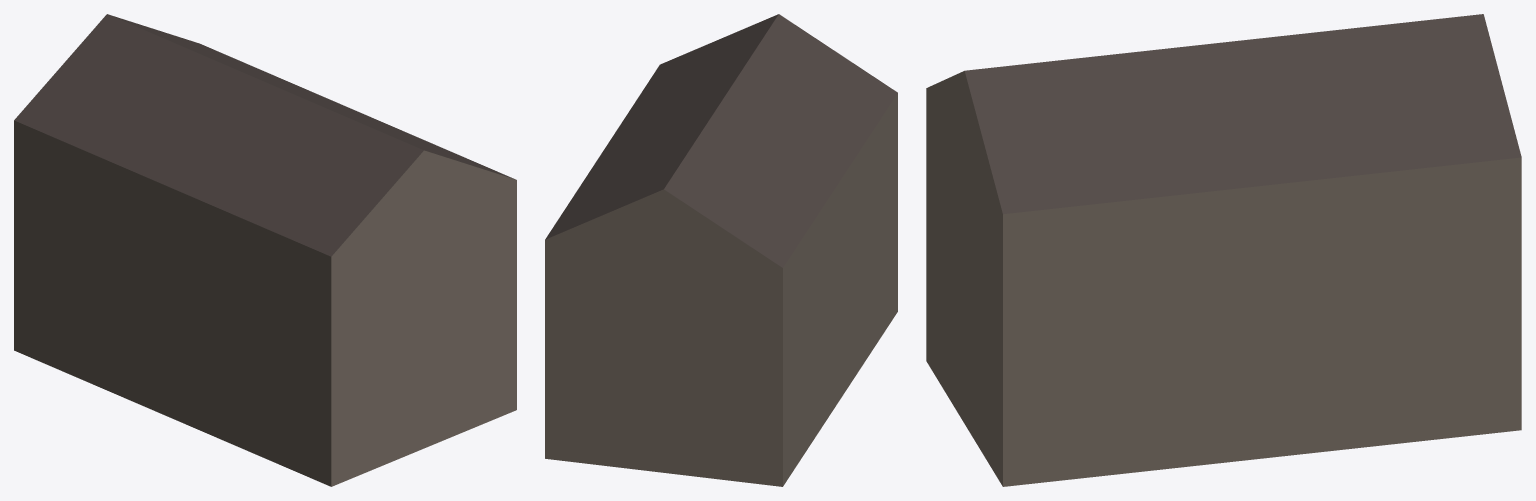
3 views of the same model, side by side, from view 1: azimuth 30°, elevation 25°; view 2: azimuth 150°, elevation 25°; view 3: azimuth 270°, elevation 25° (orthographic). The views are drawn at different scales.
Visible parts, largest first — view 1: HP-w1198020612; view 2: HP-w1198020612; view 3: HP-w1198020612.
Part boxes in pixels (box(x1,y1,x2,y2)): HP-w1198020612: box(14, 14, 516, 486); HP-w1198020612: box(545, 14, 897, 486); HP-w1198020612: box(926, 14, 1521, 486).
Size of the model in its own units: 8.62 by 7.77 by 11.87.
